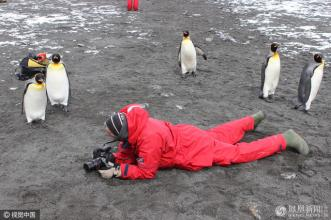fall: (83, 94, 310, 178)
